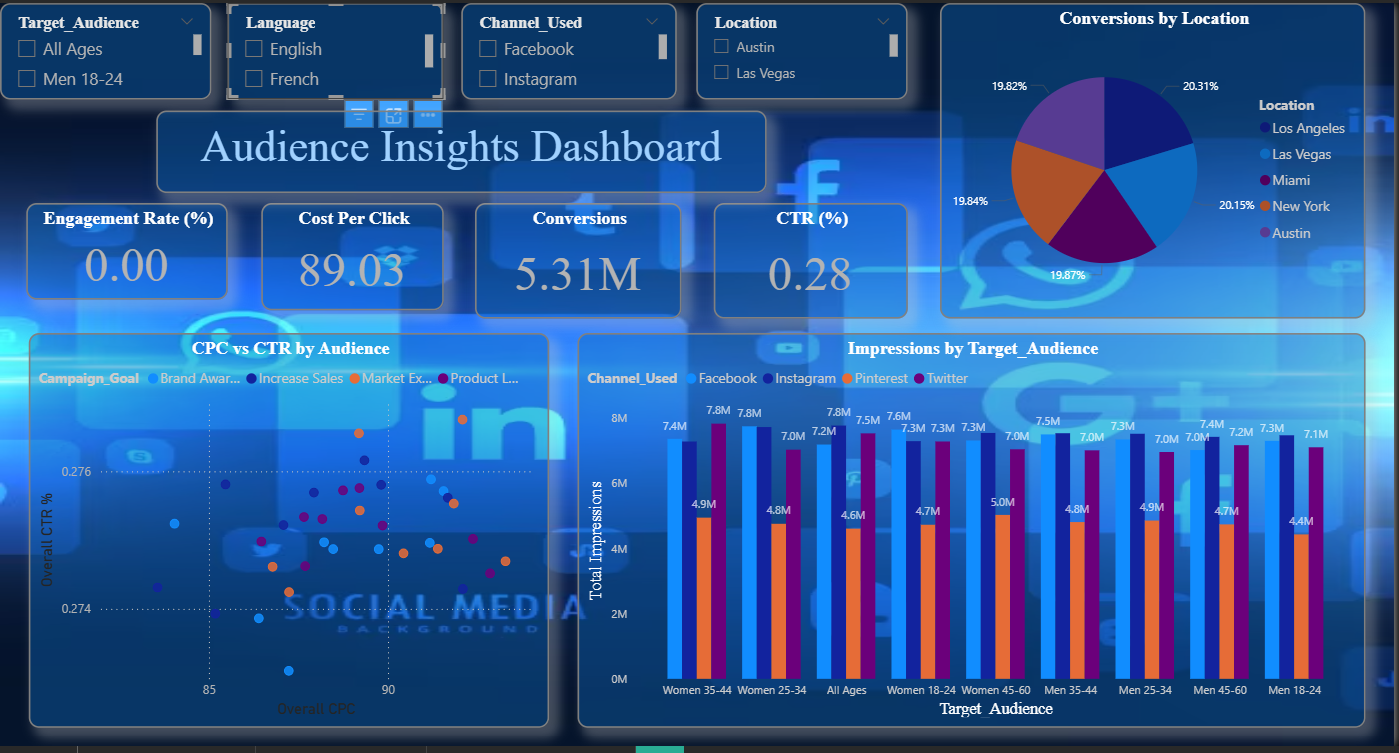

Layout of this report page (visuals, bound fields, positions):
{"tool":"powerbi","page":{"name":"Audience Insights","canvas":[1350,720],"ordinal":1},"visuals":[{"type":"slicer","fields":{"Values":["Ads.Target_Audience"]},"box":[0,0,204.8,93.2],"z":0},{"type":"slicer","fields":{"Values":["Ads.Location"]},"box":[674.5,0,204.8,93.2],"z":1000},{"type":"slicer","fields":{"Values":["Ads.Language"]},"box":[220.7,0,208.5,93.2],"z":2000},{"type":"slicer","fields":{"Values":["Ads.Channel_Used"]},"box":[446.4,0,208.5,93.2],"z":3000},{"type":"card","title":"Engagement Rate (%)","fields":{"Values":["Ads.Overall Engagement Rate %"]},"box":[25.8,193.8,195,93.2],"z":4000},{"type":"card","title":"CTR (%)","fields":{"Values":["Ads.Overall CTR %"]},"box":[691.7,193.8,187.6,111.6],"z":5000},{"type":"card","title":"Conversions","fields":{"Values":["Ads.Total Conversions"]},"box":[459.9,193.8,199.9,111.6],"z":6000},{"type":"card","title":"Cost Per Click","fields":{"Values":["Ads.Overall CPC"]},"box":[252.6,193.8,176.6,104.2],"z":7000},{"type":"clusteredColumnChart","title":" Impressions by Target_Audience","fields":{"Category":["Ads.Target_Audience"],"Y":["Ads.Total Impressions"],"Series":["Ads.Channel_Used"]},"box":[559.2,320.1,762.8,382.6],"z":8000},{"type":"pieChart","title":"Conversions by Location","fields":{"Category":["Ads.Location"],"Y":["Ads.Total Conversions"]},"box":[910,0,412.1,305.4],"z":9000},{"type":"scatterChart","title":"CPC vs CTR by Audience","fields":{"Category":["Ads.Target_Audience"],"Y":["Ads.Overall CTR %"],"X":["Ads.Overall CPC"],"Series":["Ads.Campaign_Goal"]},"box":[28.2,320.1,504,382.6],"z":10000},{"type":"textbox","box":[150.8,104.2,591.1,79.7],"z":11000}]}

Visuals, with their boxes in screenshot pixels (x1, y1, x2, y2), scaled from the page's 1350x720 canvas onto the 1399x753 screenshot:
slicer - Ads.Target_Audience: x1=0, y1=0, x2=212, y2=97
slicer - Ads.Location: x1=699, y1=0, x2=911, y2=97
slicer - Ads.Language: x1=229, y1=0, x2=445, y2=97
slicer - Ads.Channel_Used: x1=463, y1=0, x2=679, y2=97
"Engagement Rate (%)" card: x1=27, y1=203, x2=229, y2=300
"CTR (%)" card: x1=717, y1=203, x2=911, y2=319
"Conversions" card: x1=477, y1=203, x2=684, y2=319
"Cost Per Click" card: x1=262, y1=203, x2=445, y2=312
" Impressions by Target_Audience" clusteredColumnChart: x1=579, y1=335, x2=1370, y2=735
"Conversions by Location" pieChart: x1=943, y1=0, x2=1370, y2=319
"CPC vs CTR by Audience" scatterChart: x1=29, y1=335, x2=552, y2=735
textbox: x1=156, y1=109, x2=769, y2=192
